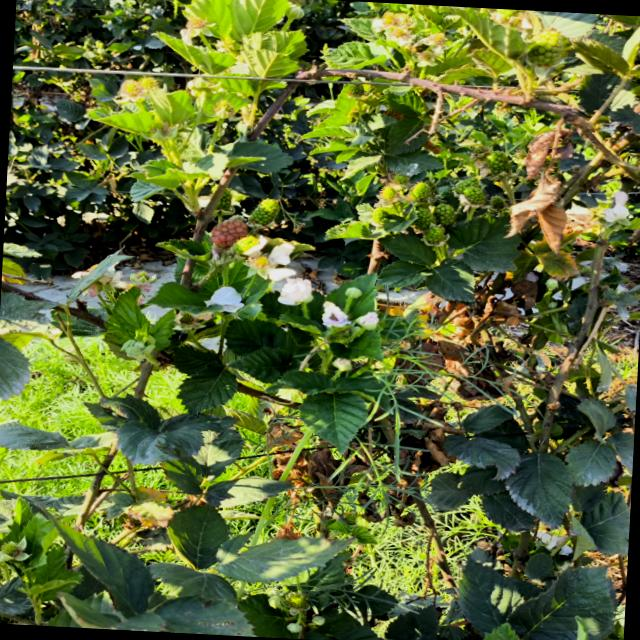boton: (346, 287, 362, 299)
flor: (242, 236, 295, 281), (278, 278, 312, 306), (322, 302, 350, 327), (356, 311, 379, 330), (333, 358, 352, 372)
naranja: (210, 220, 248, 249)
verde: (250, 199, 279, 225), (215, 189, 235, 219), (485, 151, 511, 174), (414, 205, 434, 232), (433, 204, 456, 227), (409, 182, 432, 202), (463, 186, 486, 205), (424, 225, 445, 245), (371, 207, 389, 225)
